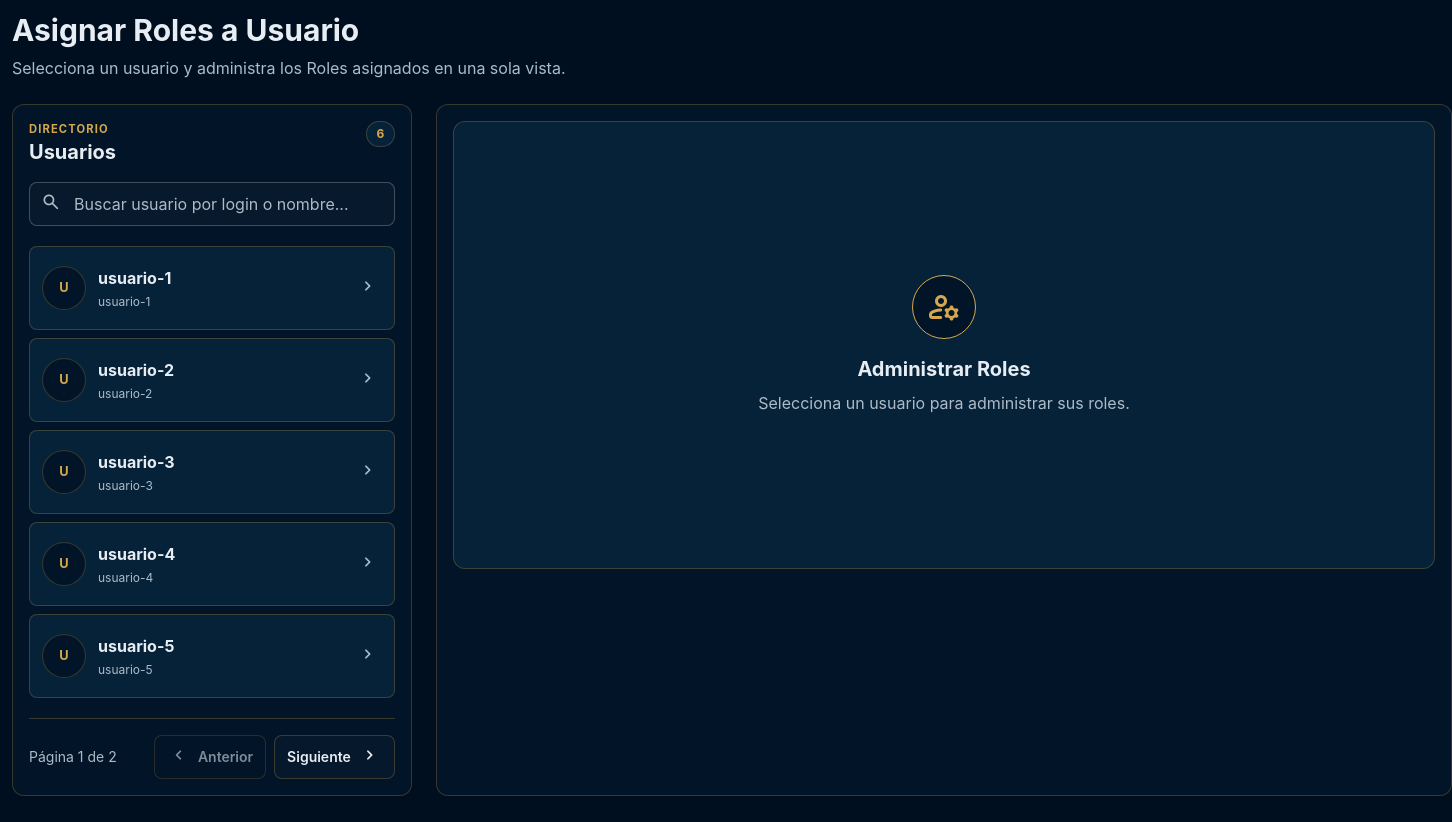
Test case: AsignarRolesListComponent › keeps the remote query when changing the user page
The image size is (1452, 822).
In the search field with id "user-search": (212, 204) x1=29 y1=182 x2=395 y2=226, type "Javier"
Wait 350 ms
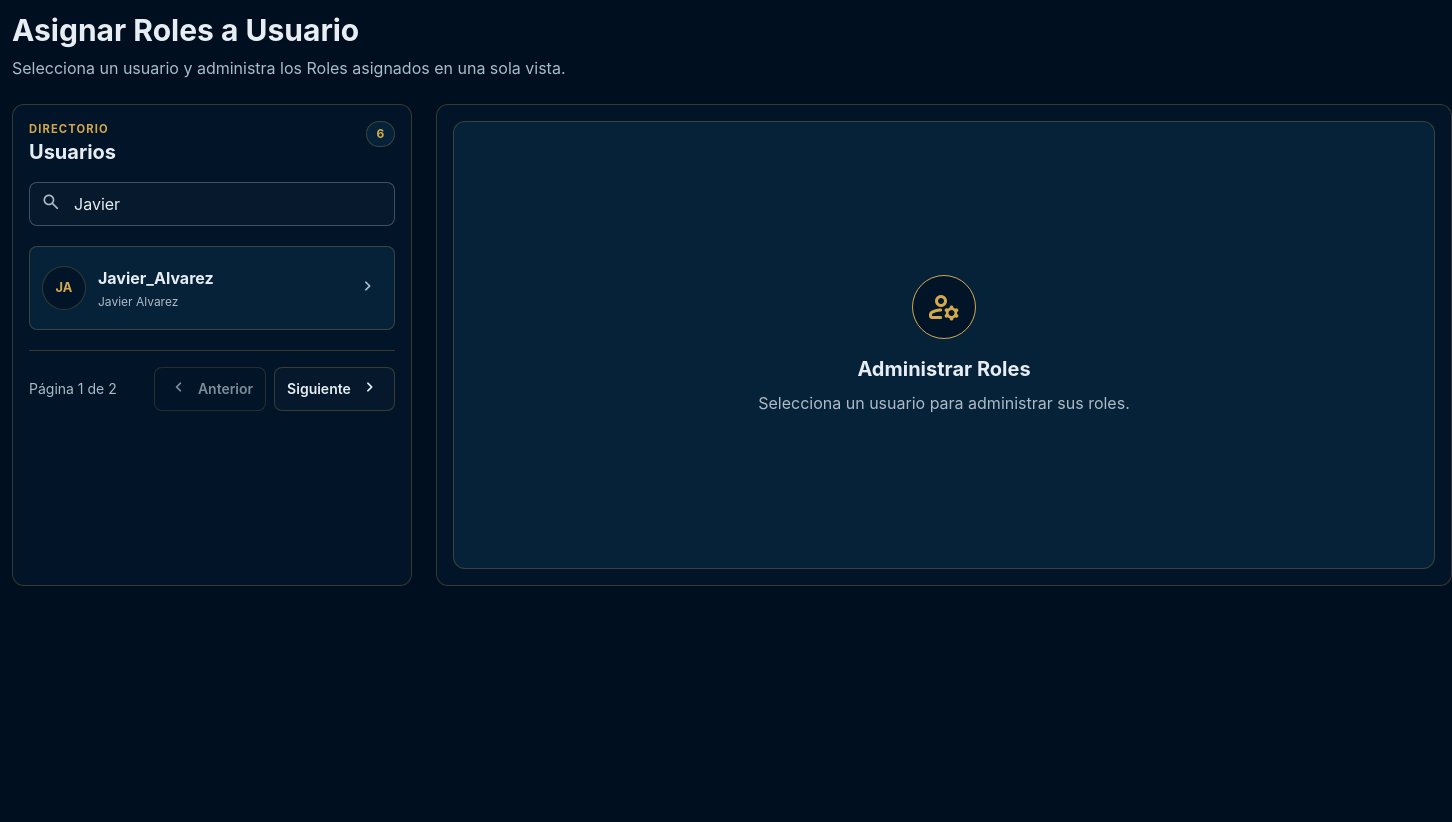
Click the button "Siguiente": (335, 389) x1=274 y1=367 x2=395 y2=411
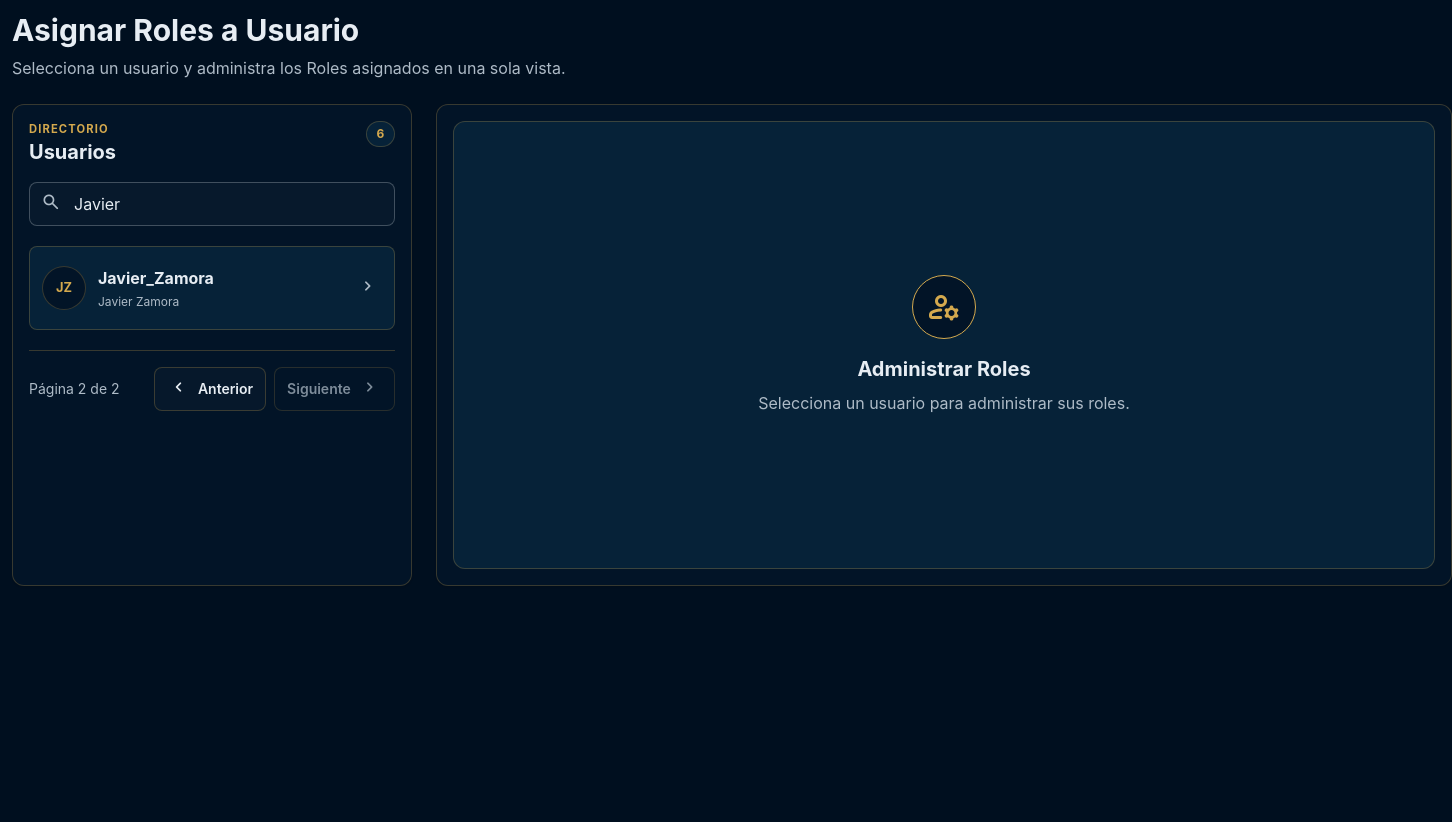
expect the text "Javier_Zamora" is shown: met, box x1=98 y1=268 x2=214 y2=288
expect the text "Javier_Alvarez" is gone: met
